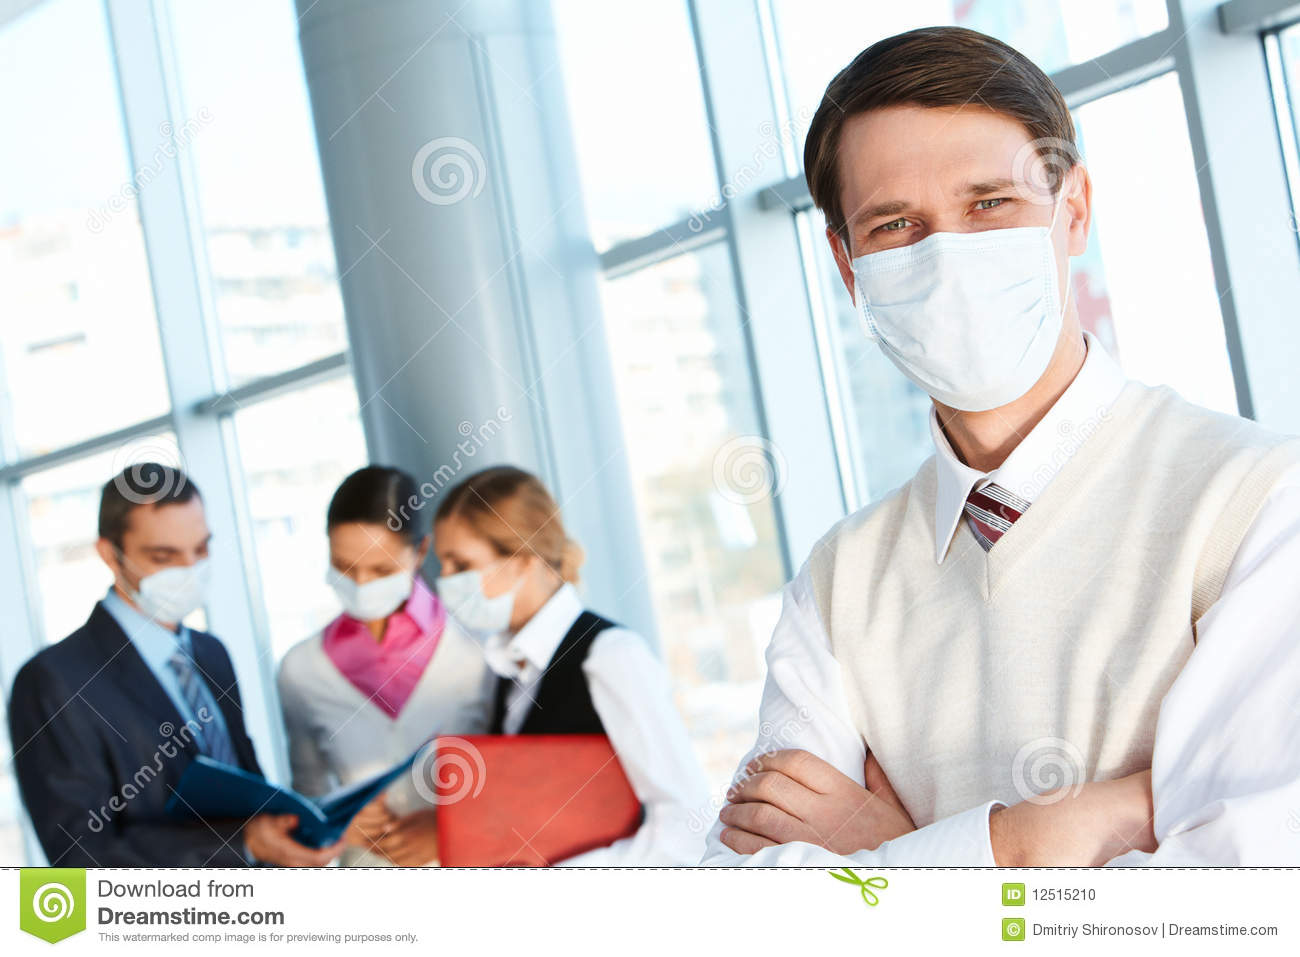mask: (854, 238, 1064, 414)
